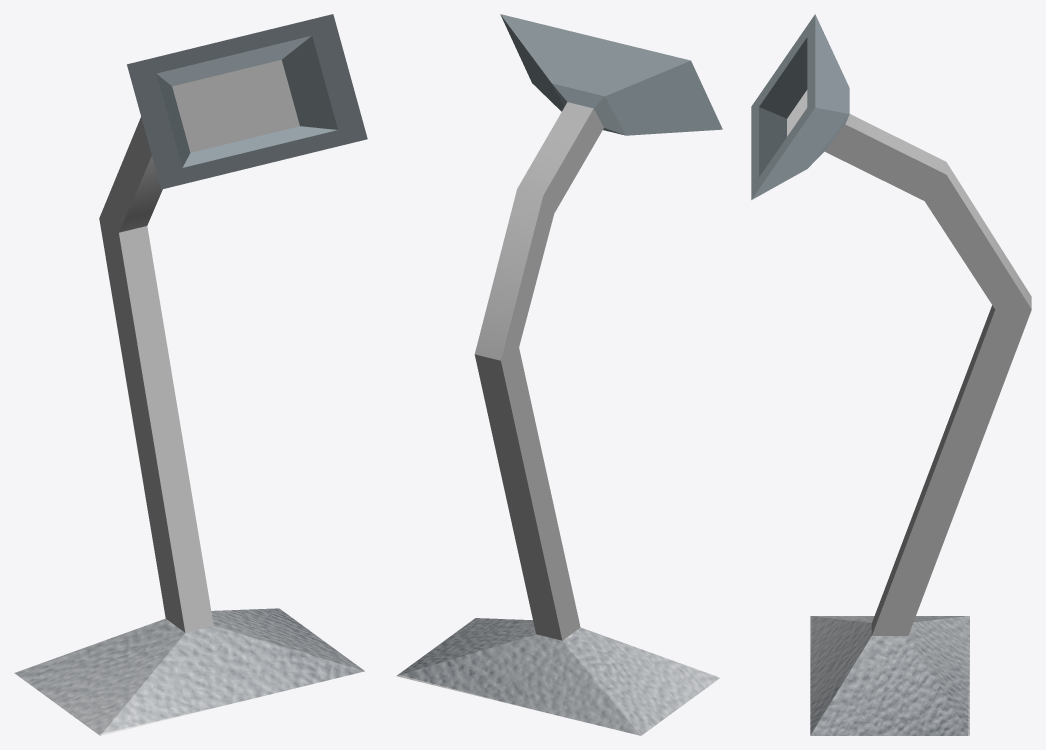
Rendered from spotlight3.fbx.
3 views of the same model, side by side, from view 1: azimuth 30°, elevation 25°; view 2: azimuth 150°, elevation 25°; view 3: azimuth 270°, elevation 25° (orthographic). The views are drawn at different scales.
Parts seen in each view (by area): view 1: spotlight:pCube1; view 2: spotlight:pCube1; view 3: spotlight:pCube1.
Boxes of the visible parts, x1,y1,x2,y2 form: spotlight:pCube1: (14,14,367,735); spotlight:pCube1: (396,14,722,735); spotlight:pCube1: (751,14,1031,735).
Bounding box in the file's own units: 178 × 425 × 176.
1 material, 1 textured.
